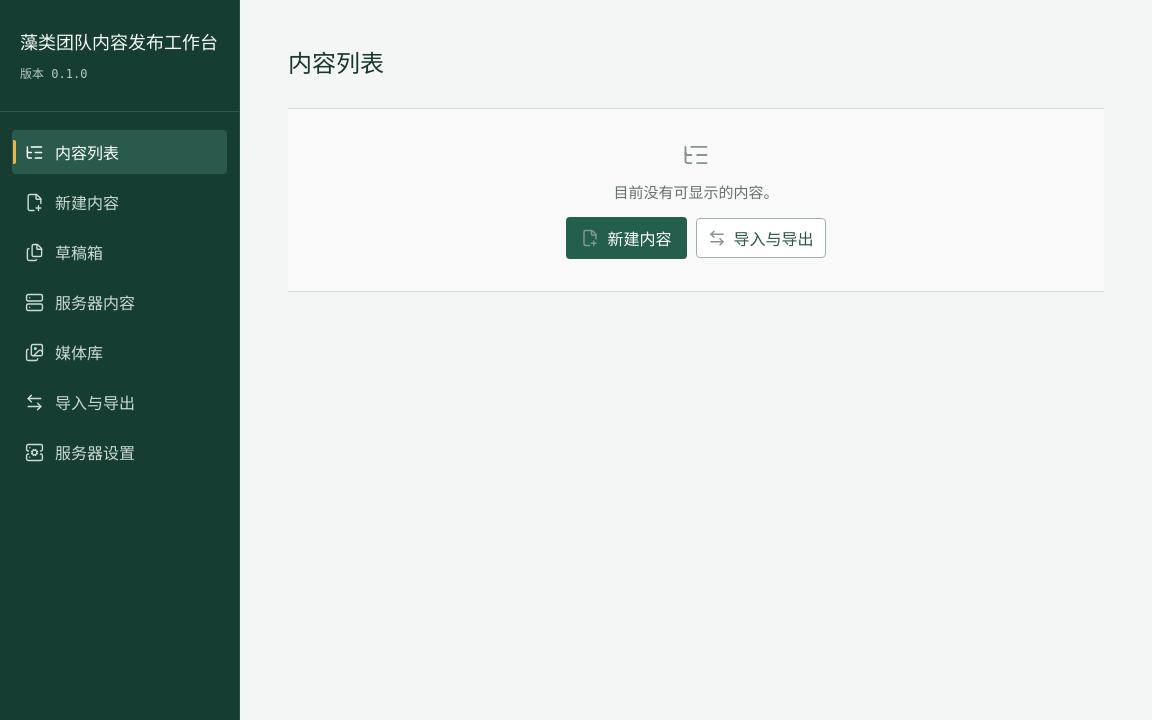
Test: deletes server content after the exact single confirmation
Click the button "服务器内容".
click(120, 302)  # box [12,280,227,324]
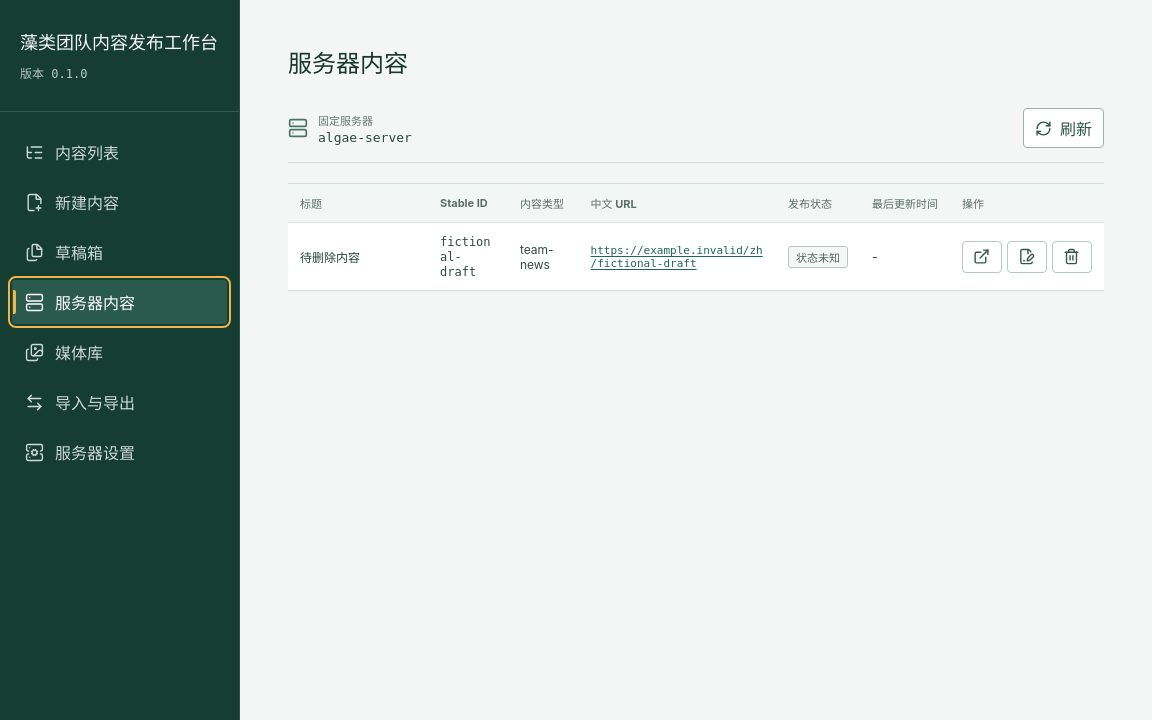
Click the button named "删除 待删除内容".
click(1072, 257)  # box [1052,241,1092,273]
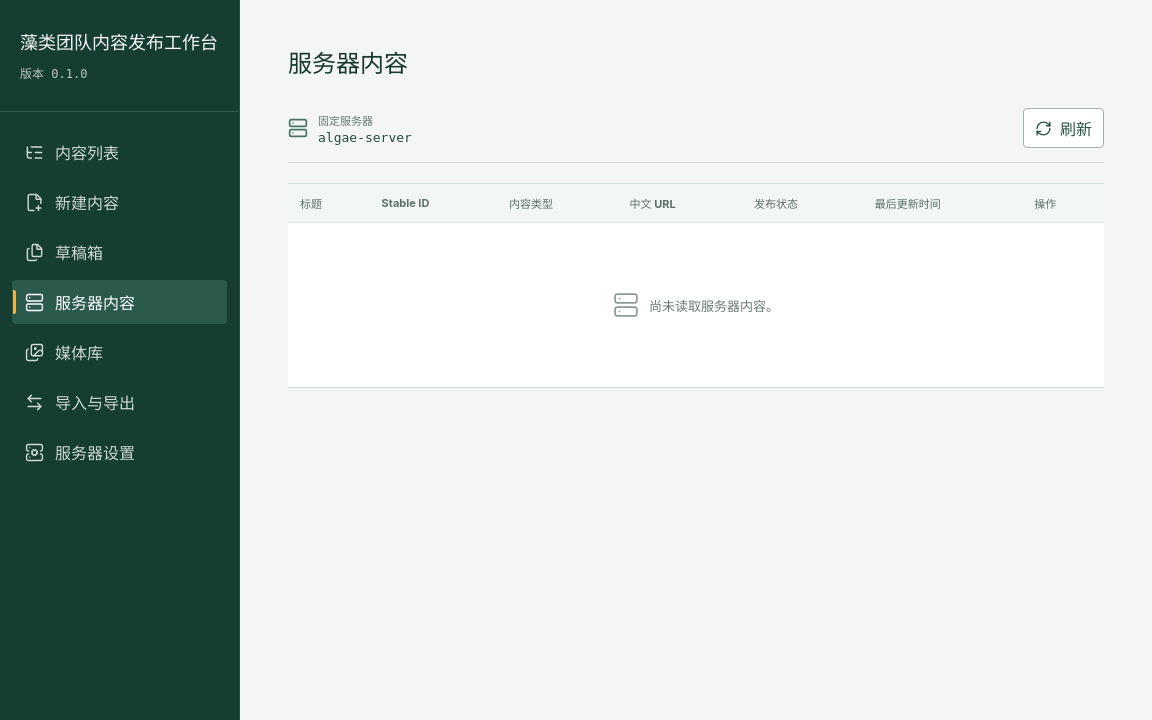
Expected: the text "待删除内容" is gone
